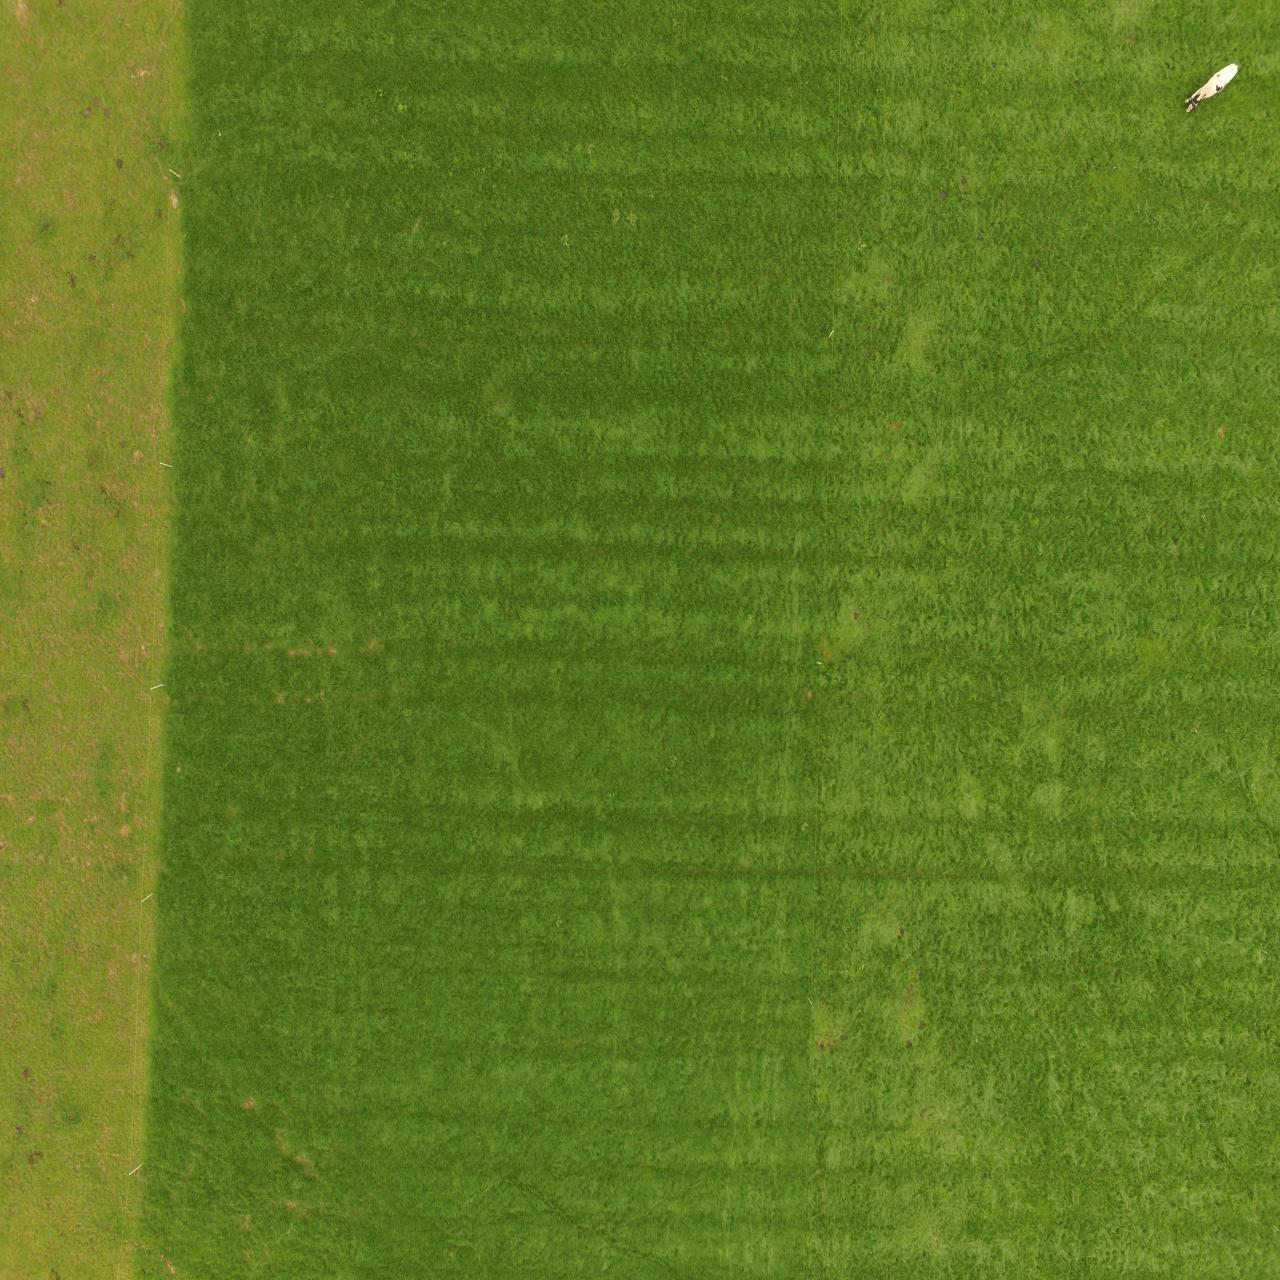cow: (1179, 59, 1240, 113)
